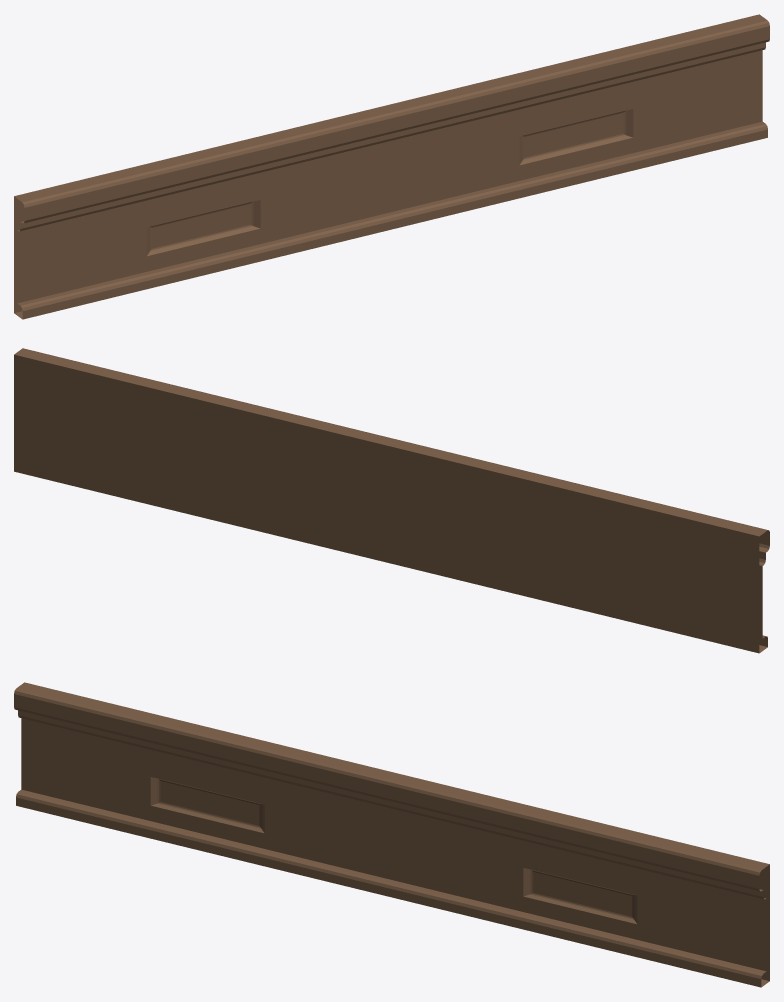
Rendered from wall_ledge_01.fbx.
3 views of the same model, one above another, from view 1: azimuth 30°, elevation 25°; view 2: azimuth 150°, elevation 25°; view 3: azimuth 330°, elevation 25° (orthographic).
Parts seen in each view (by area): view 1: wall_ledge_01; view 2: wall_ledge_01; view 3: wall_ledge_01.
Part boxes in pixels (x1,y1,x2,y2): wall_ledge_01: [14, 14, 769, 319]; wall_ledge_01: [14, 348, 769, 653]; wall_ledge_01: [14, 682, 769, 987].
Bounding box in the file's own units: 4 × 0.0982 × 0.6.
